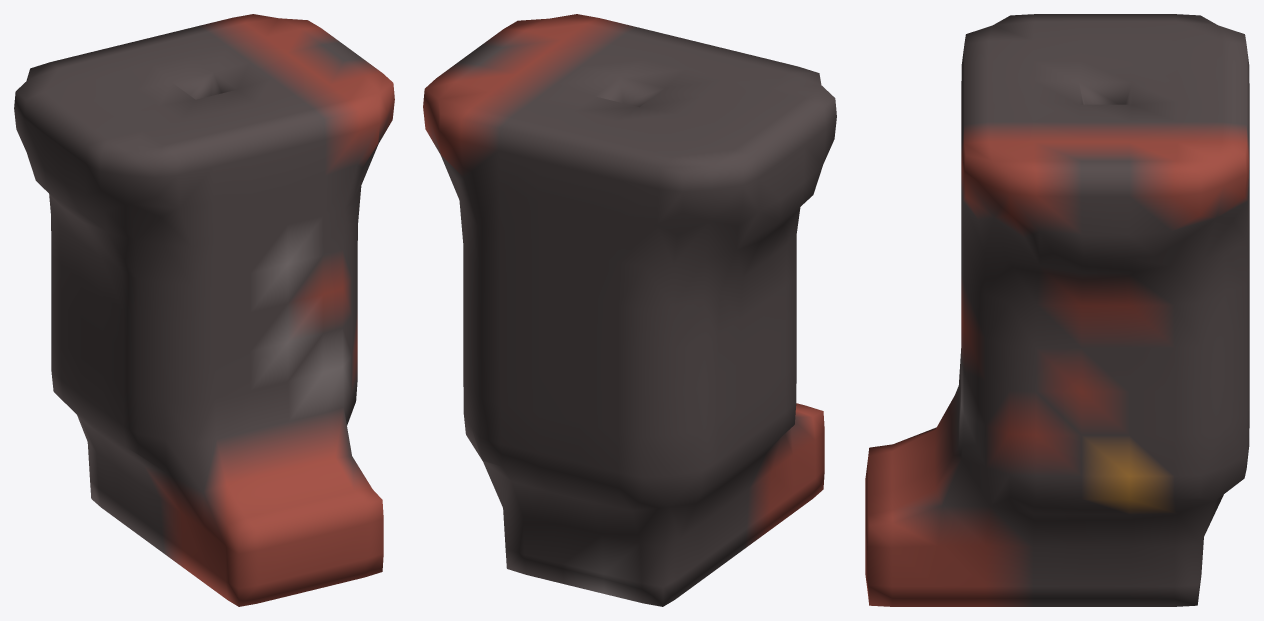
Rendered from plate_masterwork_glove_L_lod1.glb.
3 views of the same model, side by side, from view 1: azimuth 30°, elevation 25°; view 2: azimuth 150°, elevation 25°; view 3: azimuth 270°, elevation 25° (orthographic). The views are drawn at different scales.
Visible parts, largest first — view 1: plate_masterwork_glove_L_lod1; view 2: plate_masterwork_glove_L_lod1; view 3: plate_masterwork_glove_L_lod1.
Part boxes in pixels (<box>): plate_masterwork_glove_L_lod1: <box>14,14,394,606</box>; plate_masterwork_glove_L_lod1: <box>423,14,836,606</box>; plate_masterwork_glove_L_lod1: <box>865,14,1249,606</box>.
Size of the model in its own units: 0.1919 by 0.264 by 0.192.
